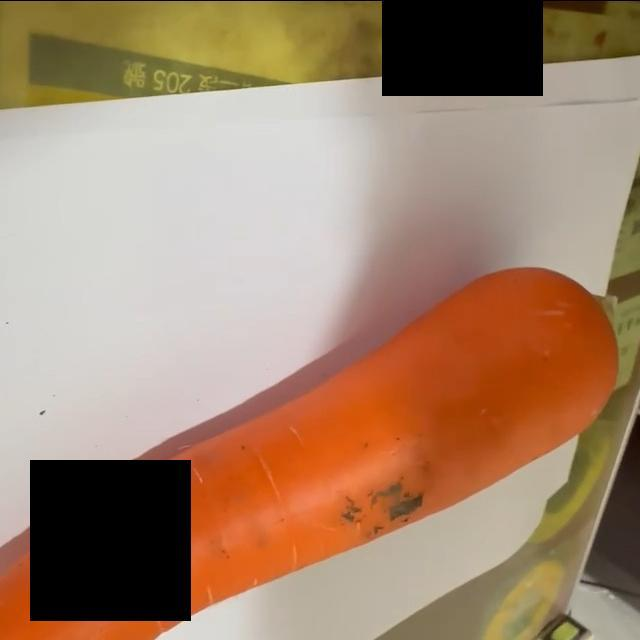carrot: (1, 265, 623, 640)
